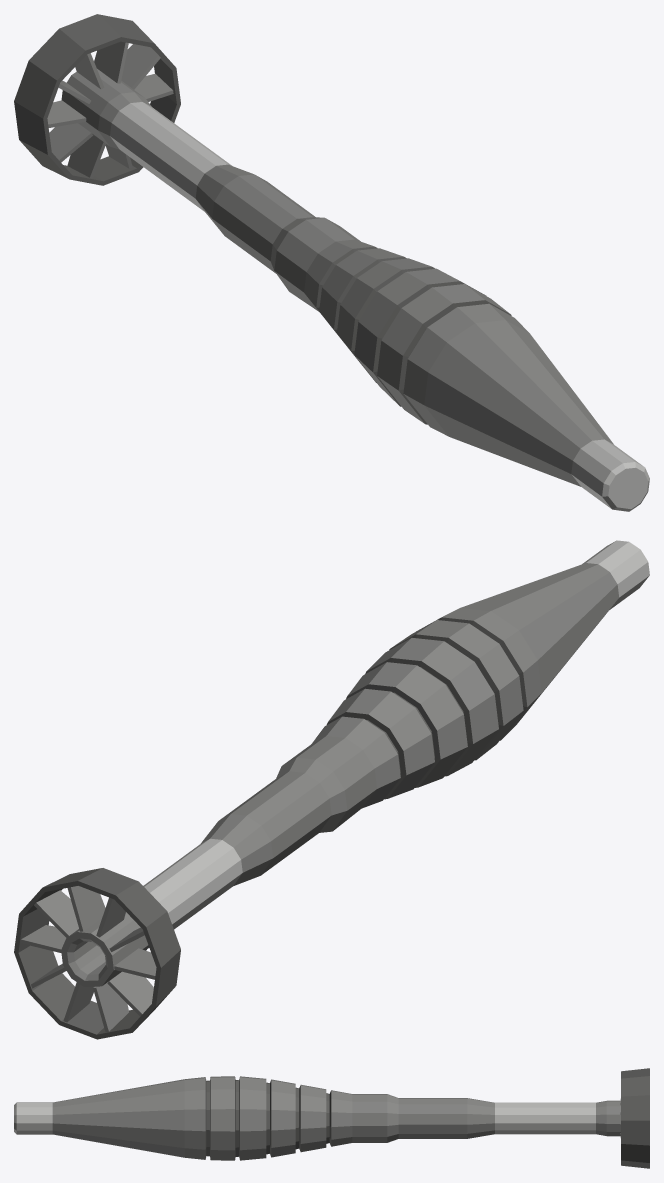
The model's file is SM_Missile_04.fbx.
3 views of the same model, one above another, from view 1: azimuth 30°, elevation 25°; view 2: azimuth 150°, elevation 25°; view 3: azimuth 270°, elevation 25° (orthographic). The views are drawn at different scales.
Parts seen in each view (by area): view 1: SM_Missile_04; view 2: SM_Missile_04; view 3: SM_Missile_04.
Part boxes in pixels (x1,y1,x2,y2): SM_Missile_04: (14, 14, 649, 511); SM_Missile_04: (14, 540, 649, 1039); SM_Missile_04: (14, 1068, 649, 1168).
Size of the model in its own units: 4.79 by 4.79 by 30.53.
Materials: 1 (1 with a texture image).
